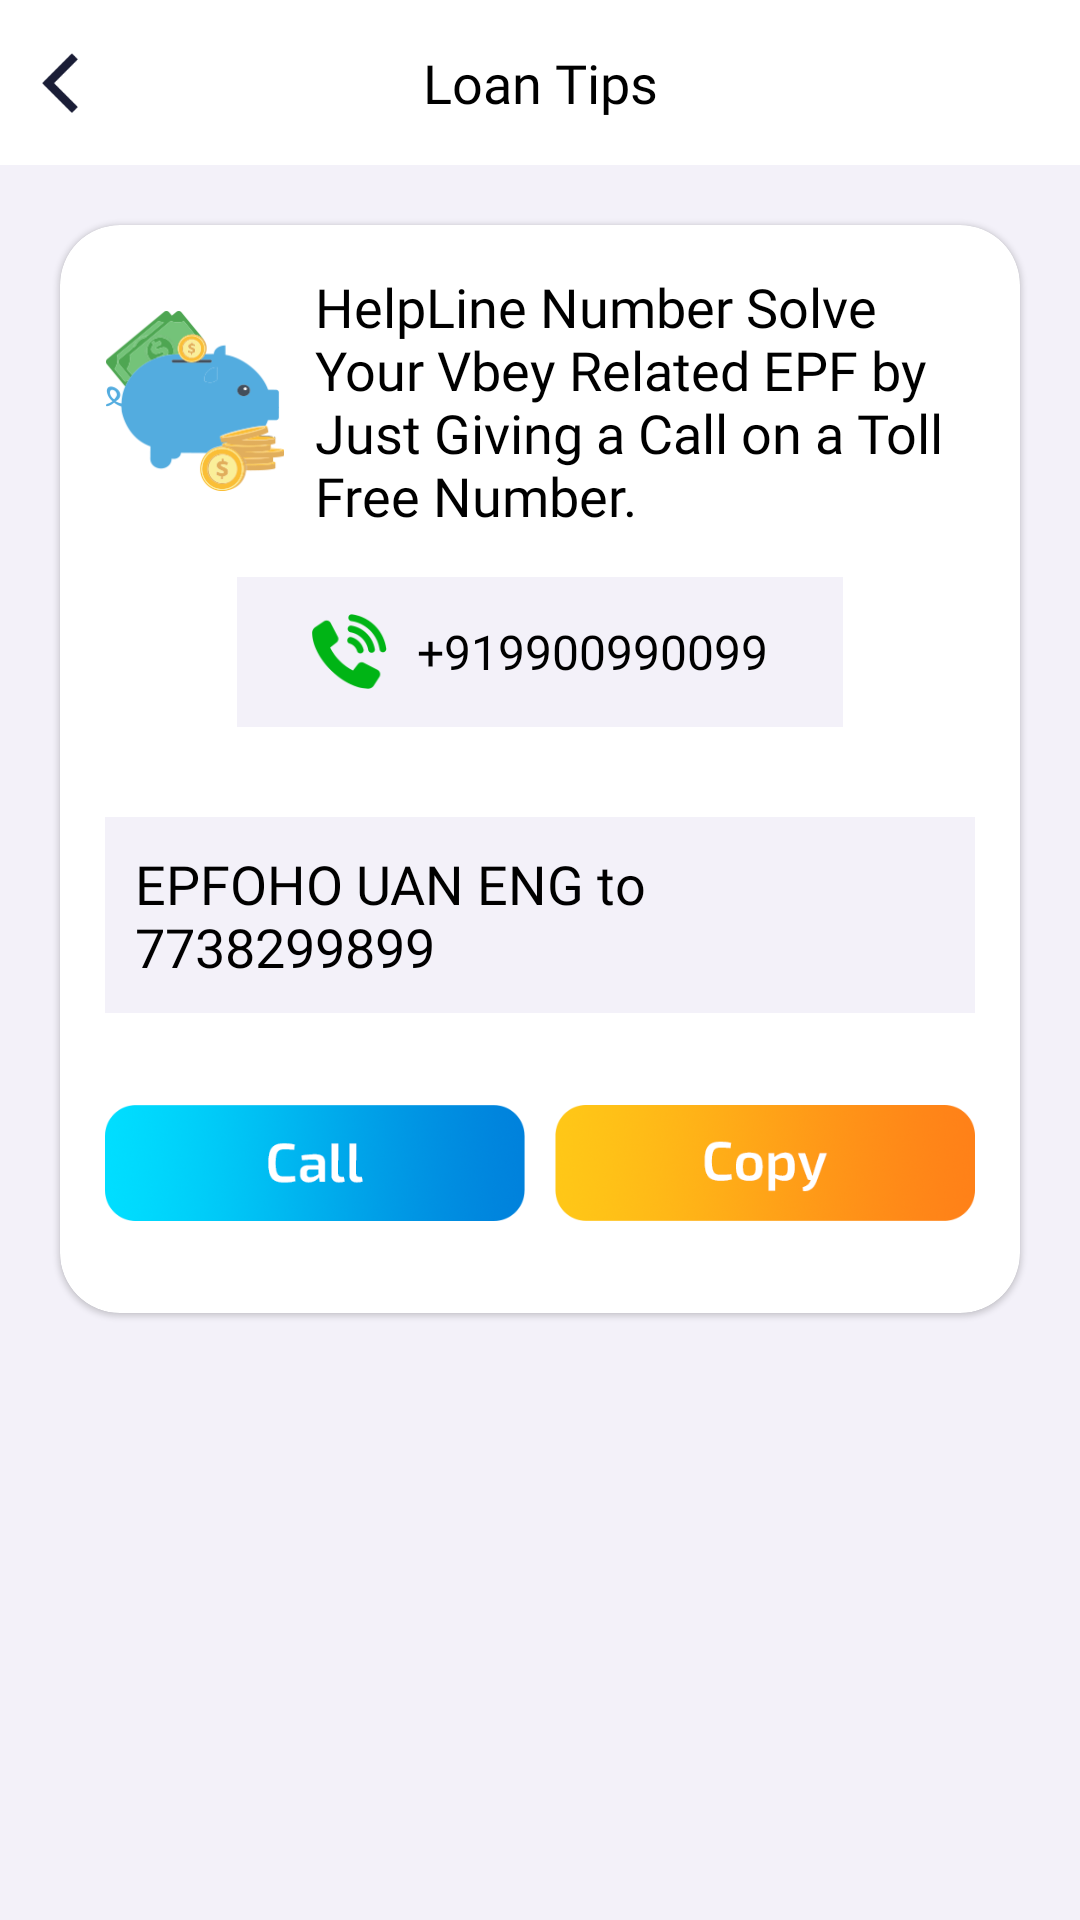

Point at icon controls on the screen. Image size 1080×1920, points as (x=x, y=y).
back: (x=60, y=83)
balance: (x=195, y=401)
bank call: (x=349, y=651)
